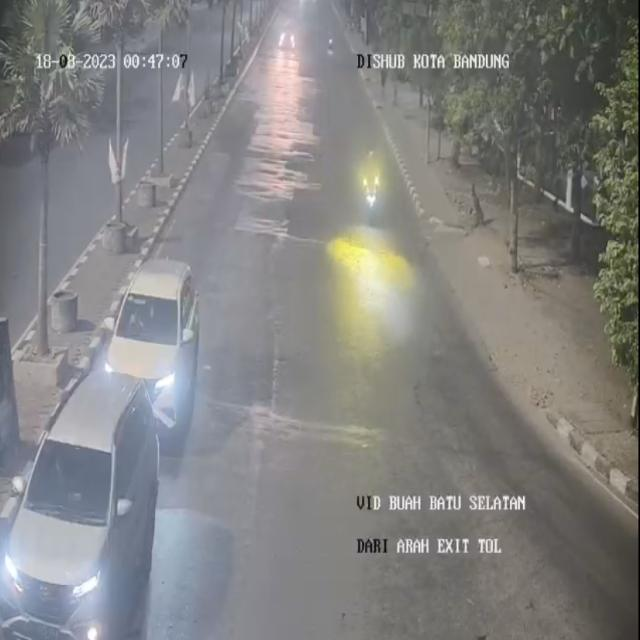cars: (1, 367, 160, 636), (102, 258, 202, 436), (281, 13, 304, 57)
motorcycle: (358, 140, 384, 226), (64, 608, 120, 640)
